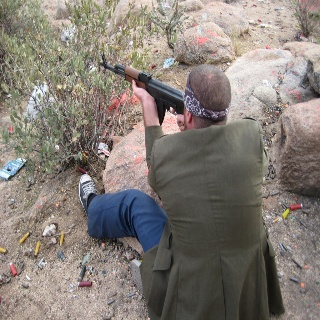rifle: (98, 53, 190, 126)
